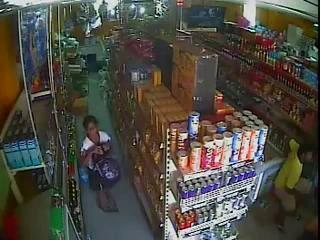Normal: (80, 116, 120, 213), (272, 138, 304, 193)
